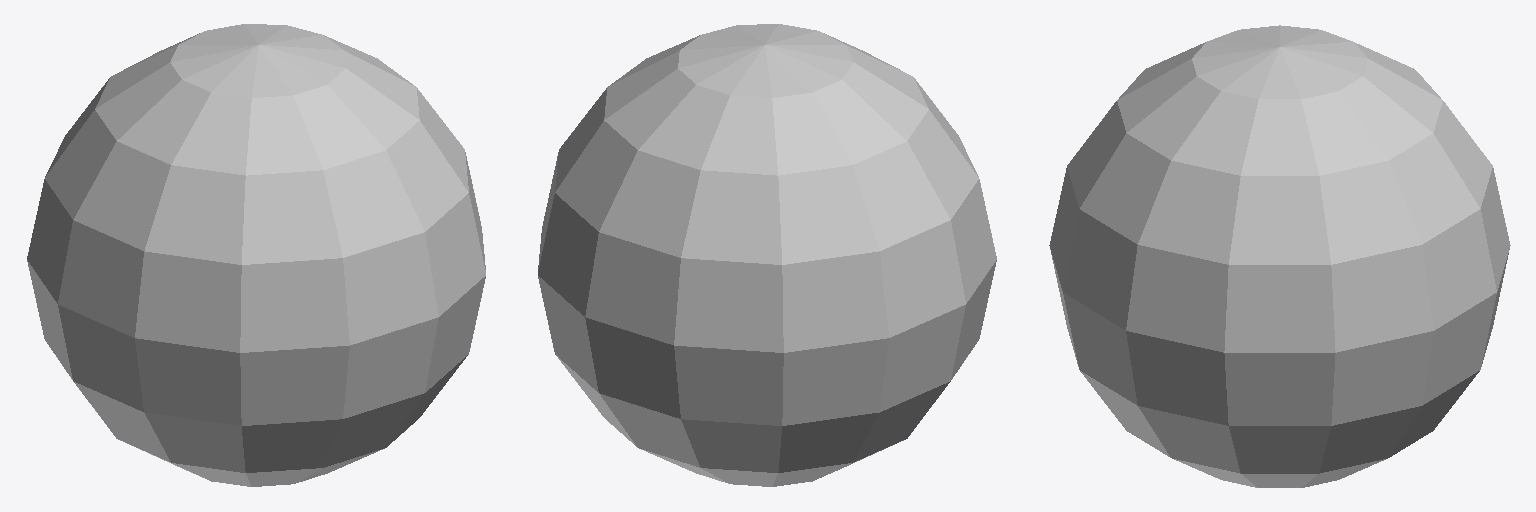
File: sphereSmooth.obj
The picture shows the model from 3 angles: view 1: azimuth 30°, elevation 25°; view 2: azimuth 150°, elevation 25°; view 3: azimuth 270°, elevation 25°; orthographic projection.
Visible parts, largest first — view 1: sphere; view 2: sphere; view 3: sphere.
Part boxes in pixels (left/top/right/bottom): sphere: left=27, top=24, right=485, bottom=486; sphere: left=538, top=24, right=996, bottom=486; sphere: left=1049, top=25, right=1510, bottom=487.
Bounding box in the file's own units: 1.97 × 2 × 1.99.